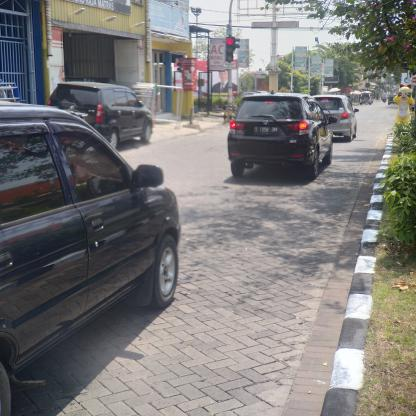red: (225, 35, 235, 63)
